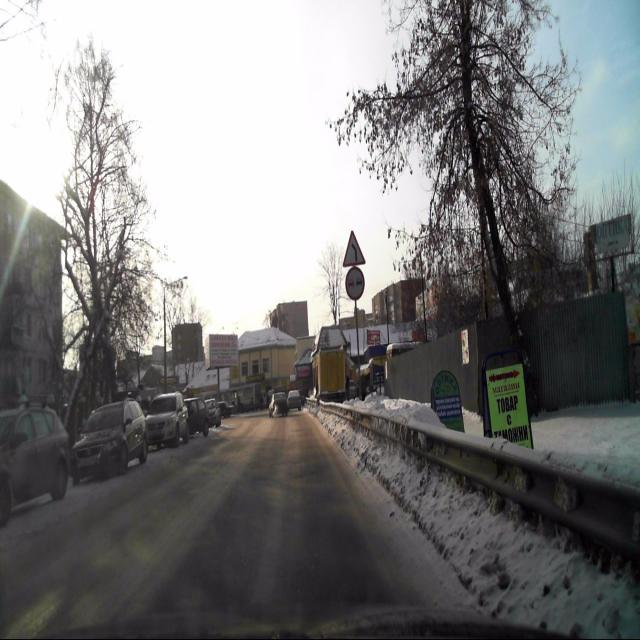road sign: (342, 230, 366, 267)
